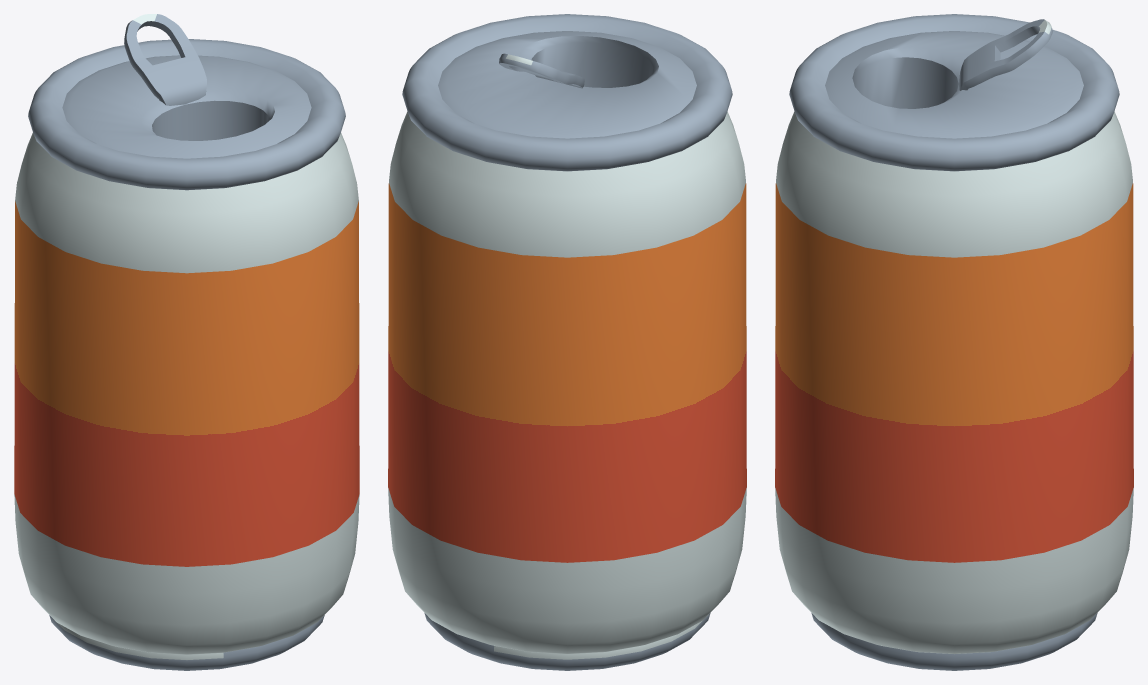
File: lata.fbx
The picture shows the model from 3 angles, left to right: view 1: azimuth 30°, elevation 25°; view 2: azimuth 150°, elevation 25°; view 3: azimuth 270°, elevation 25°; orthographic projection. The views are drawn at different scales.
Parts seen in each view (by area): view 1: lata; view 2: lata; view 3: lata.
Part boxes in pixels (<box>): lata: <box>14,14,359,670</box>; lata: <box>388,14,746,670</box>; lata: <box>775,14,1133,670</box>.
Bounding box in the file's own units: 108 × 196 × 108.
